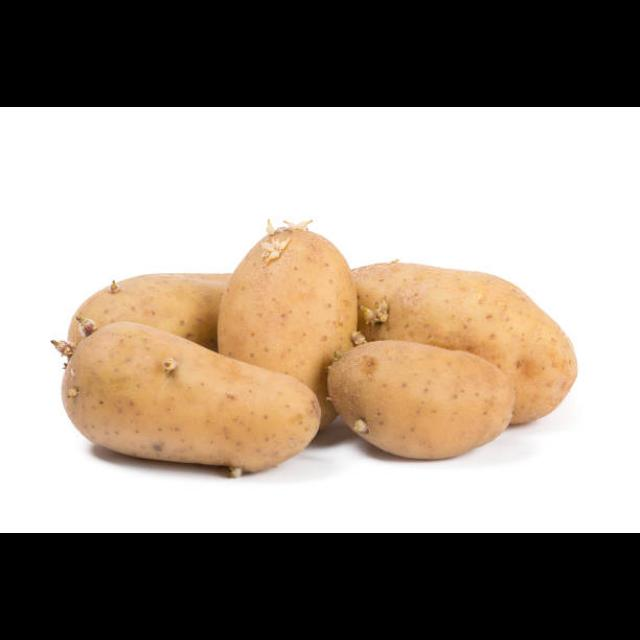Sprouted potato: (43, 306, 331, 476), (338, 245, 584, 432), (217, 211, 369, 431), (320, 331, 520, 474), (52, 266, 250, 370)
